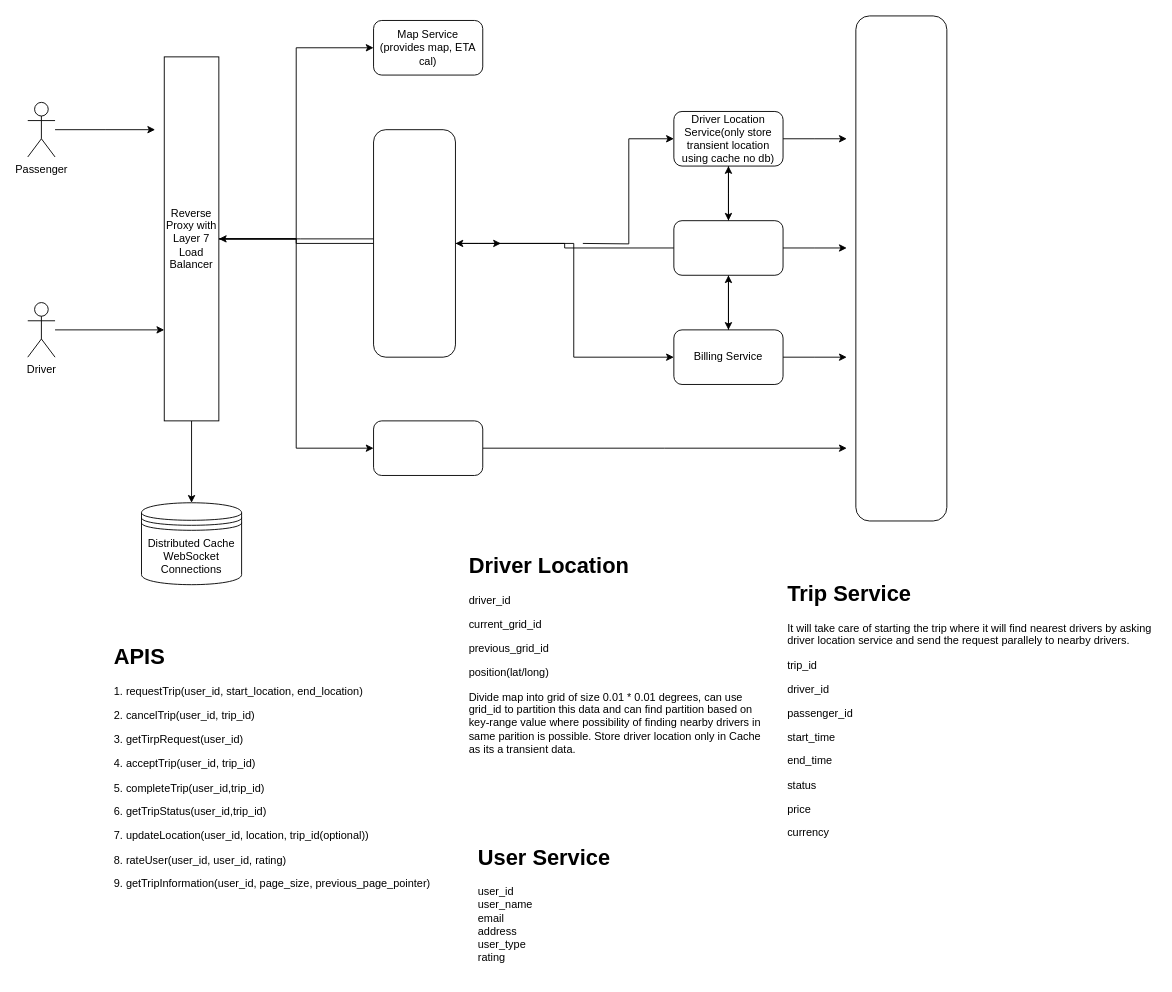
Image size: 1172x992. Some labels were removed from this diagram. Here are the shapes that lost their labels. From the top down, the box of each, then its label:
(373, 129, 455, 357): Routing Service
(673, 220, 783, 275): Trip Service
(855, 15, 947, 521): Distributed Database and Caching Layer
(373, 420, 483, 475): User Service
